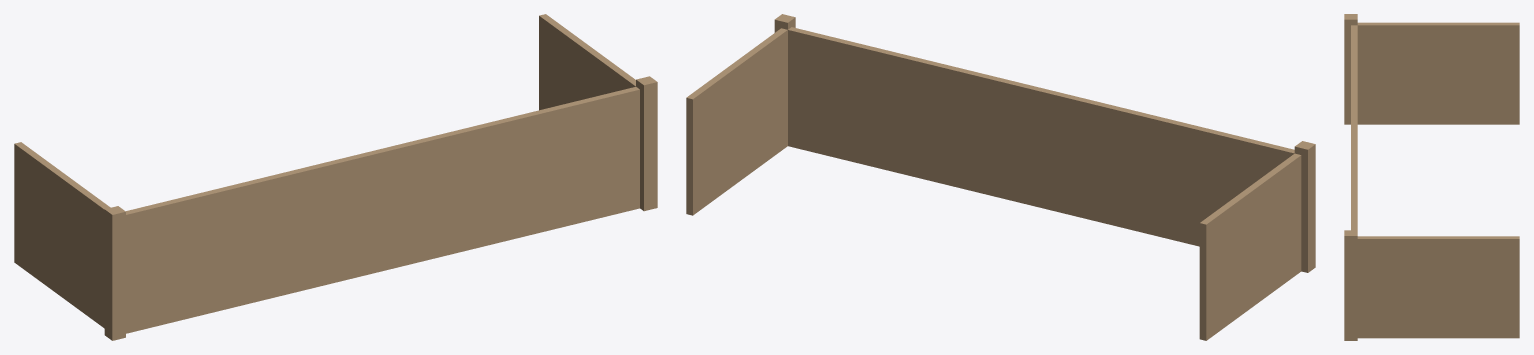
The model's file is SM_Fence_Short.fbx.
The picture shows the model from 3 angles, left to right: view 1: azimuth 30°, elevation 25°; view 2: azimuth 150°, elevation 25°; view 3: azimuth 270°, elevation 25°; orthographic projection. The views are drawn at different scales.
Visible parts, largest first — view 1: SM_Fence_Short; view 2: SM_Fence_Short; view 3: SM_Fence_Short.
Part boxes in pixels (<box>): SM_Fence_Short: <box>14,14,657,340</box>; SM_Fence_Short: <box>686,14,1315,340</box>; SM_Fence_Short: <box>1344,14,1519,340</box>.
Bounding box in the file's own units: 864 × 191 × 288.
